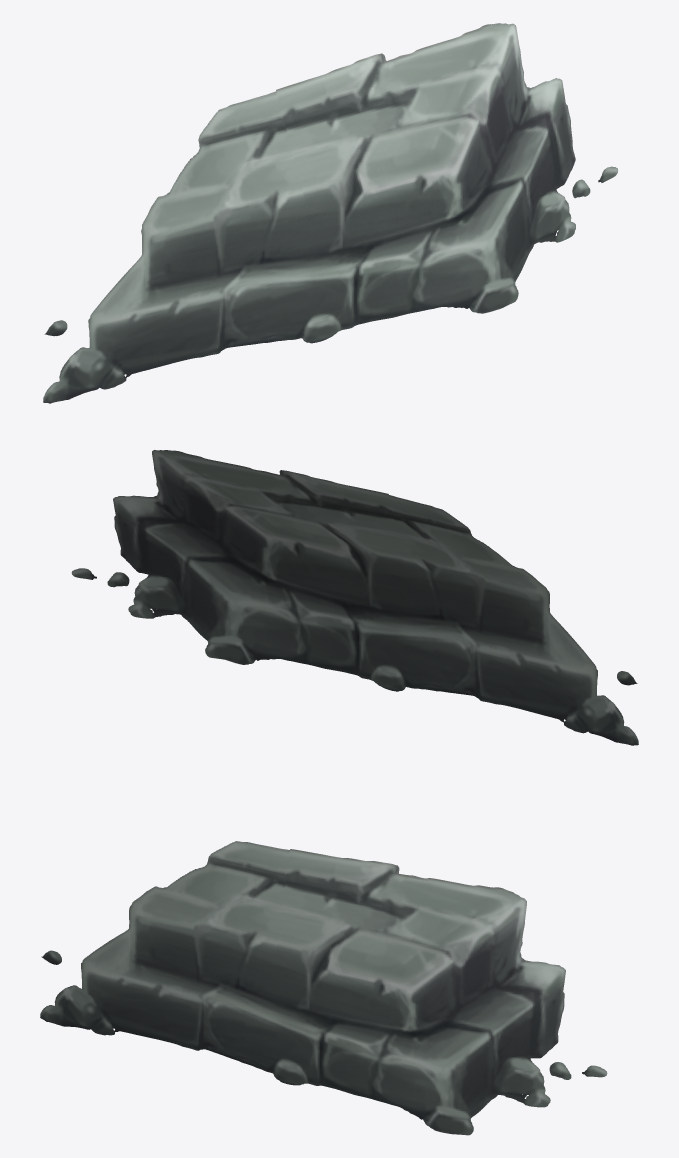
The model's file is Stone Base.FBX.
3 renders of one model, top to bottom at view 1: azimuth 30°, elevation 25°; view 2: azimuth 150°, elevation 25°; view 3: azimuth 330°, elevation 25°, orthographic. The views are drawn at different scales.
Visible parts, largest first — view 1: Stone Base; view 2: Stone Base; view 3: Stone Base.
Part boxes in pixels (<box>): Stone Base: <box>43,23,618,403</box>; Stone Base: <box>71,450,638,745</box>; Stone Base: <box>40,841,607,1135</box>.
Size of the model in its own units: 658 by 60.87 by 293.
